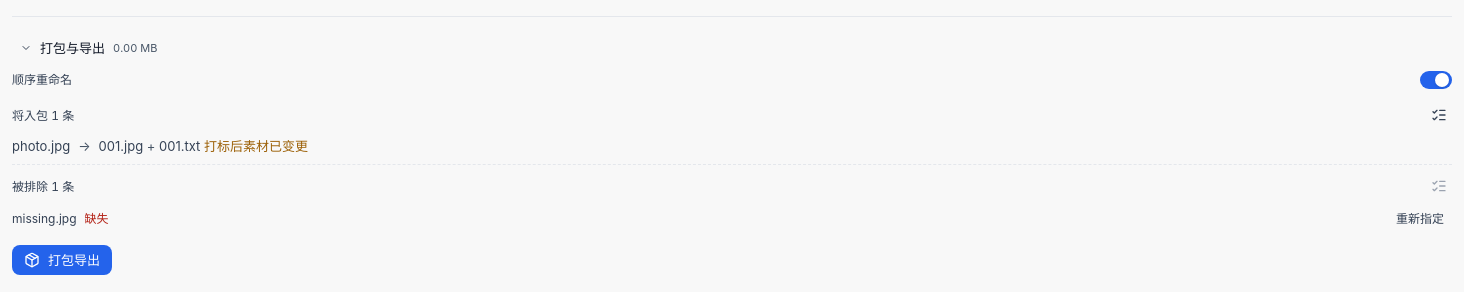
Test case: 取消请求受理后继续查询原任务，取消终态不提供下载
Step 1. Click the button "打包导出" → x=62, y=260, box [12,245,112,275]
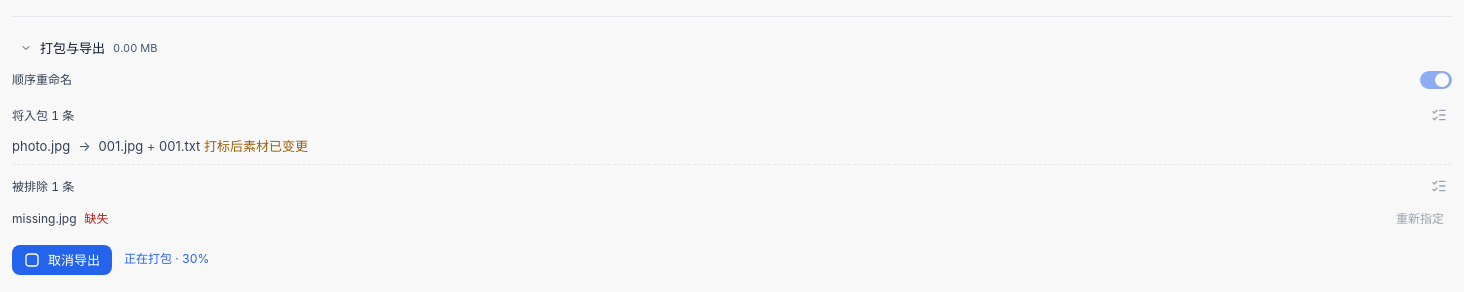
Now the text "正在打包 · 30%" is shown, box [124,250,209,269]
Step 2. Click the button "取消导出" → x=62, y=260, box [12,245,112,275]
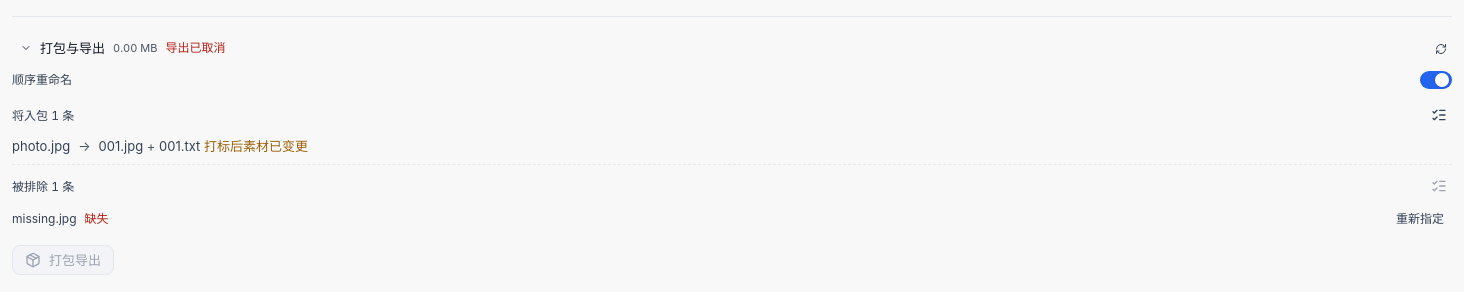
Now the message reads "导出已取消", box [166,40,226,55]
Now the button "取消导出" is gone
